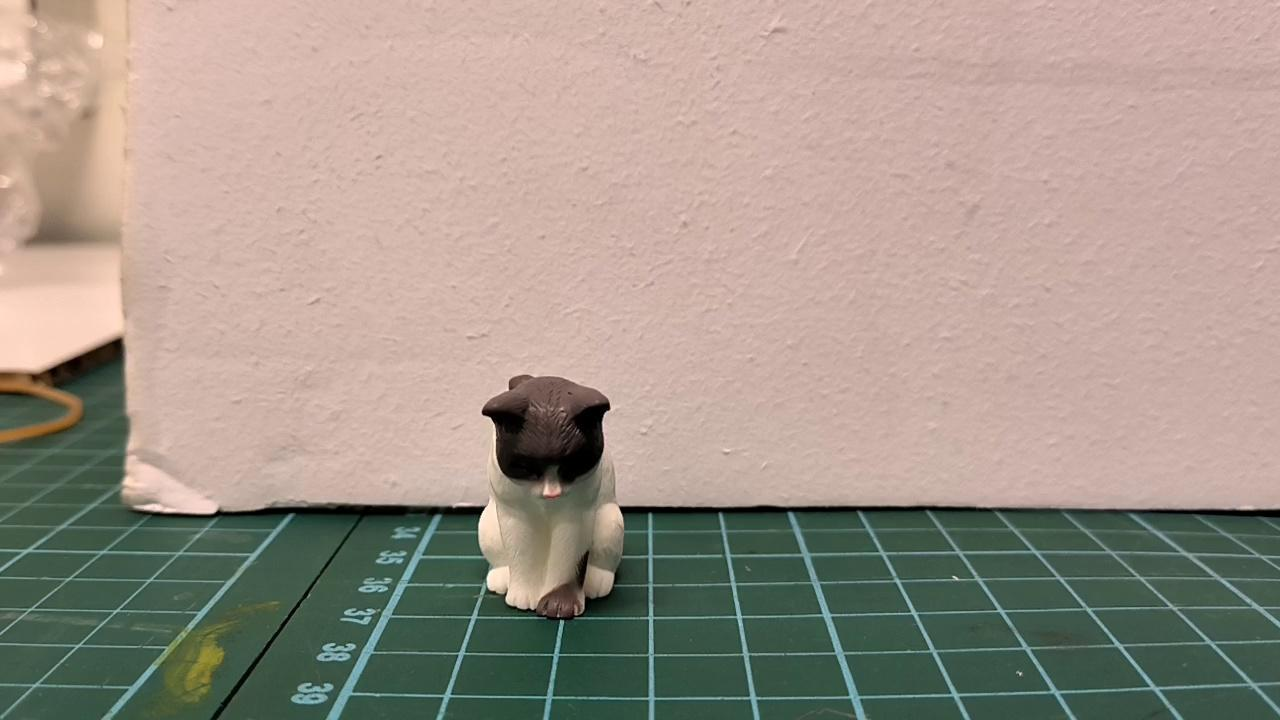pet: (478, 371, 625, 626)
